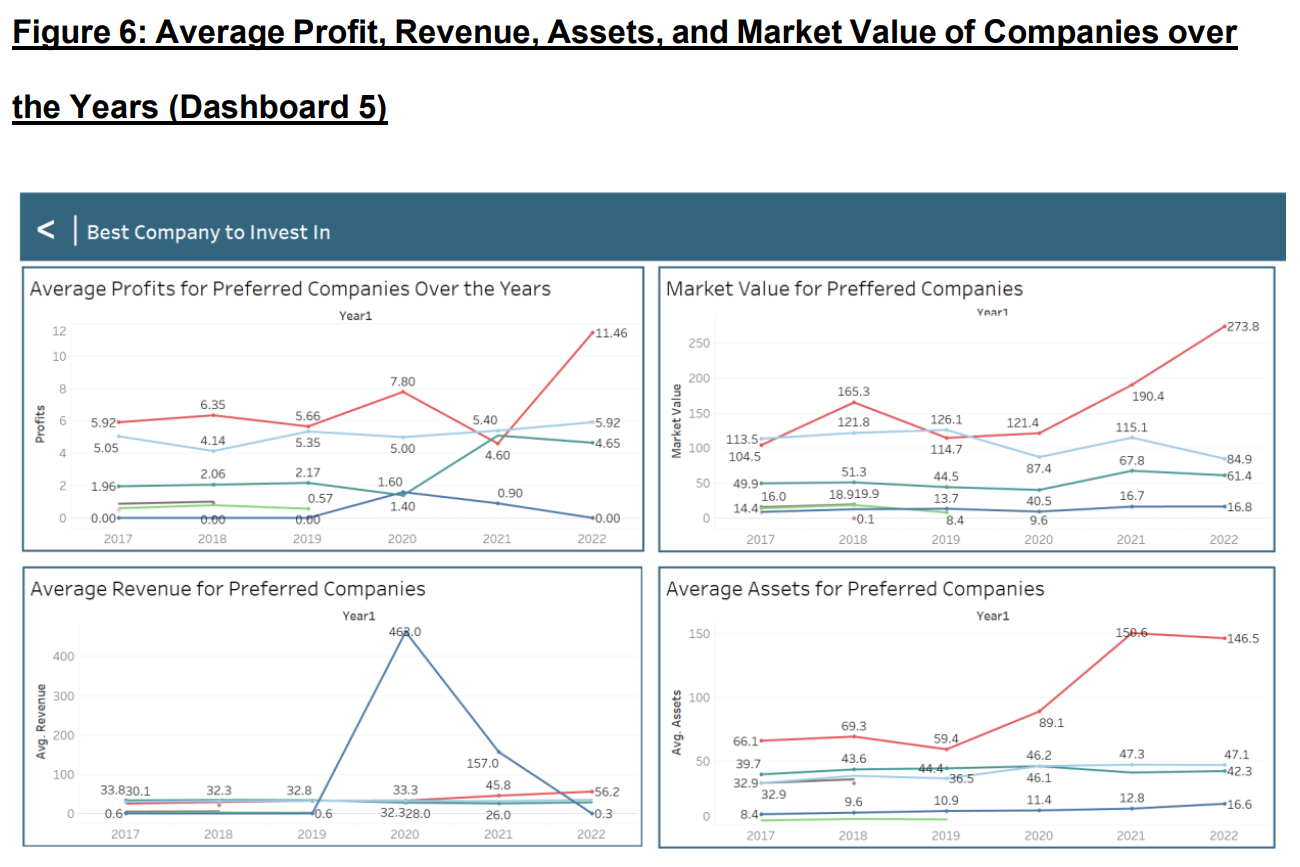

The dashboard page shown, as its layout file describes it:
{"tool":"tableau","page":{"name":"Yearly Analysis for Company","canvas":[1000,1000],"units":"permille","ordinal":4},"visuals":[{"type":"dashboard-object","box":[7.9,31.4,37.6,63.9]},{"type":"text","box":[6.2,114.9,985.7,858.2]},{"type":"dashboard-object","box":[939.5,118.6,49.9,80.7]},{"type":"worksheet","title":"Average Profits for Preferred Companies Over the Years","mark":"Automatic","rows":["Profits"],"cols":["Year"],"box":[9.8,123.5,484.6,408.3]},{"type":"worksheet","title":"Market Value for Preffered Companies","mark":"Automatic","rows":["Market Value"],"cols":["Year"],"box":[509.4,123.5,480.7,409.5]},{"type":"worksheet","title":"Average Revenue for Preferred Companies","mark":"Automatic","rows":["Revenue"],"cols":["Year"],"box":[10,559.9,483.2,401]},{"type":"worksheet","title":"Assets for Preferred Companies","mark":"Automatic","rows":["Assets"],"cols":["Year"],"box":[509.4,559.9,480.7,403.4]}]}

Visuals, with their boxes on the dashboard's canvas, which has no fixed pixel size, in thousandths of its width and height (x1, y1, x2, y2). These are canvas units, not pixel positions in the 1300x867 screenshot, which may show the page scaled, cropped or inside an application window:
dashboard-object: l=8, t=31, r=46, b=95
text: l=6, t=115, r=992, b=973
dashboard-object: l=940, t=119, r=989, b=199
"Average Profits for Preferred Companies Over the Years" worksheet: l=10, t=124, r=494, b=532
"Market Value for Preffered Companies" worksheet: l=509, t=124, r=990, b=533
"Average Revenue for Preferred Companies" worksheet: l=10, t=560, r=493, b=961
"Assets for Preferred Companies" worksheet: l=509, t=560, r=990, b=963
